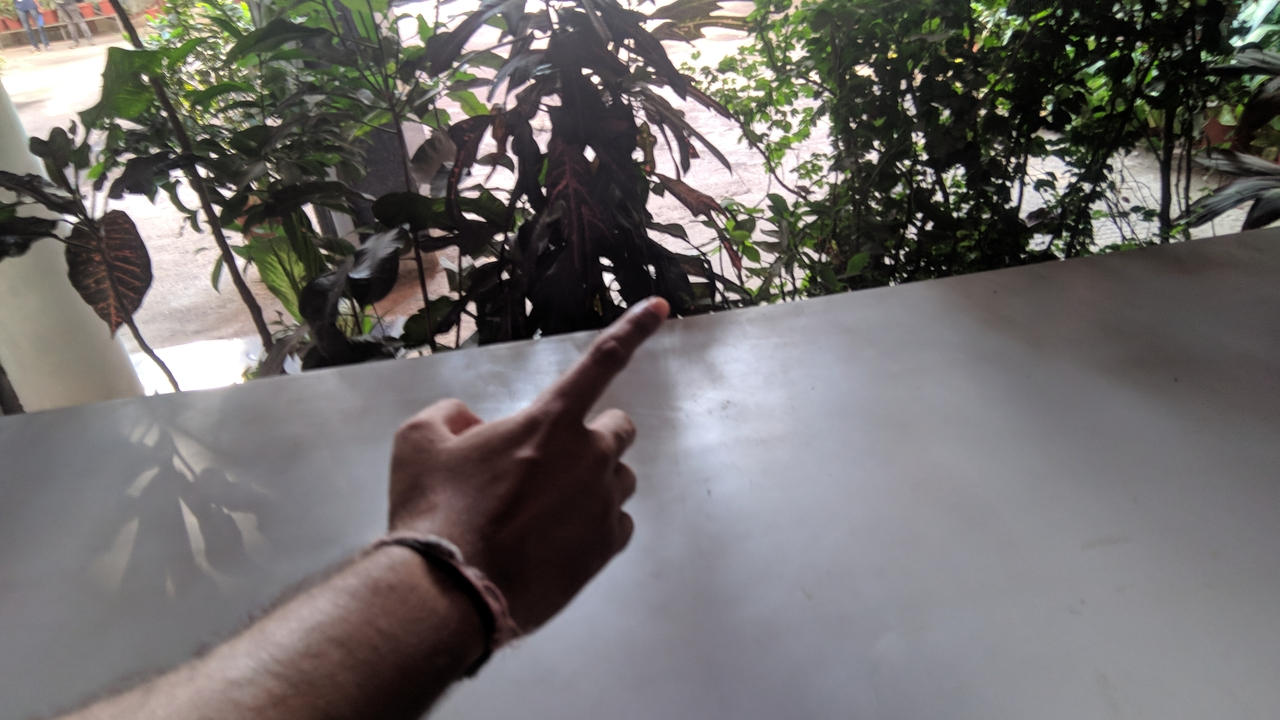fingertip: (608, 294, 672, 342)
